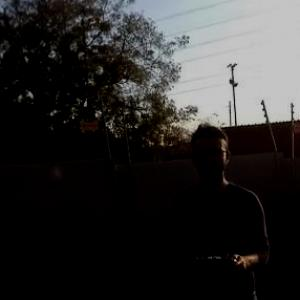follow: (165, 114, 275, 299)
